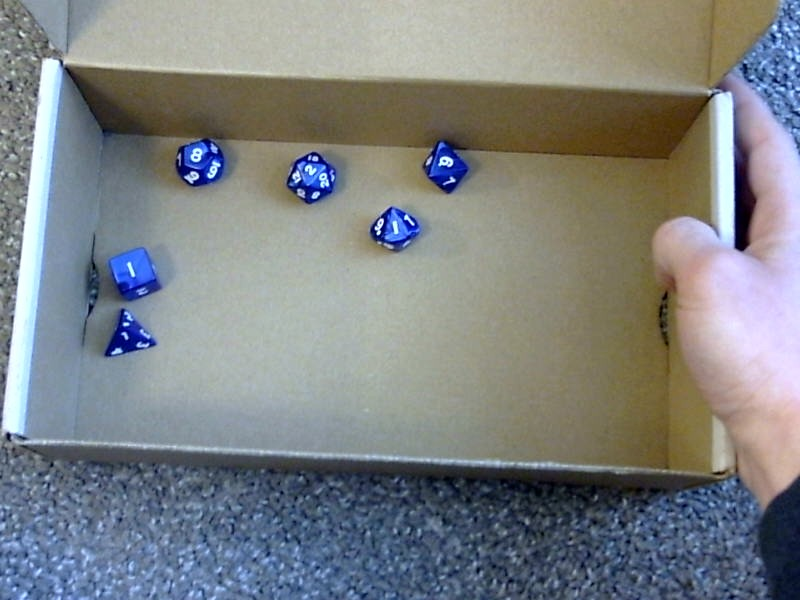d10 1: (364, 203, 422, 253)
d12 8: (171, 133, 225, 188)
d20 2: (281, 143, 337, 206)
d4 1: (99, 306, 158, 362)
d6 1: (101, 238, 164, 303)
d8 6: (415, 137, 470, 196)
